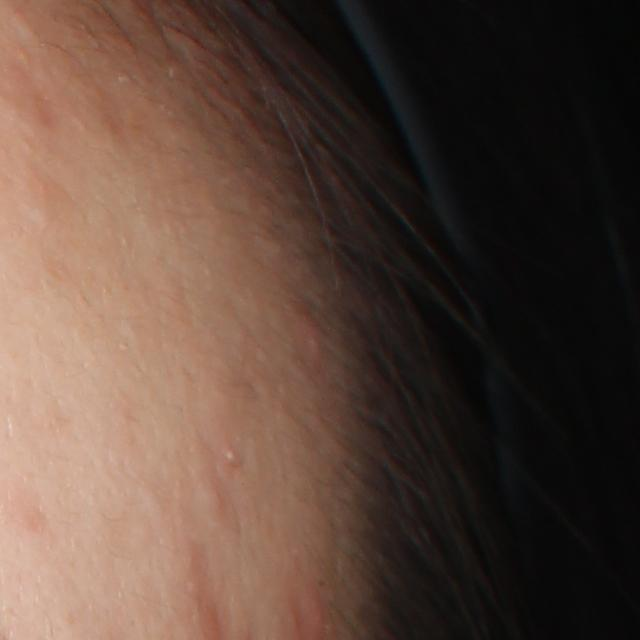papule: (290, 304, 326, 364)
